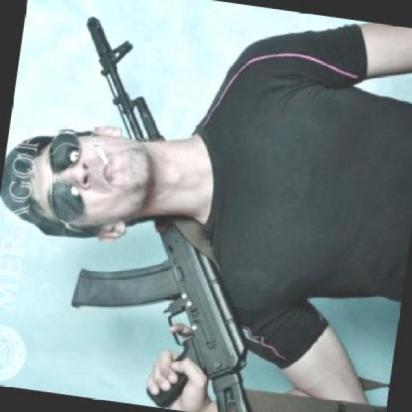Gun: (8, 7, 327, 412)
